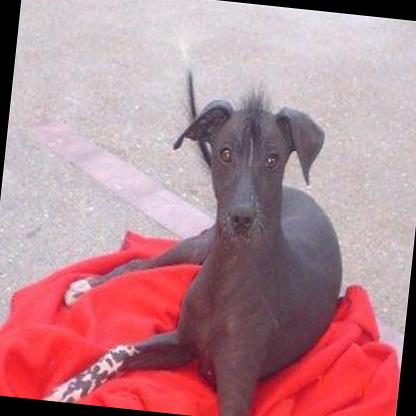Mexican_hairless: (42, 24, 364, 416)
